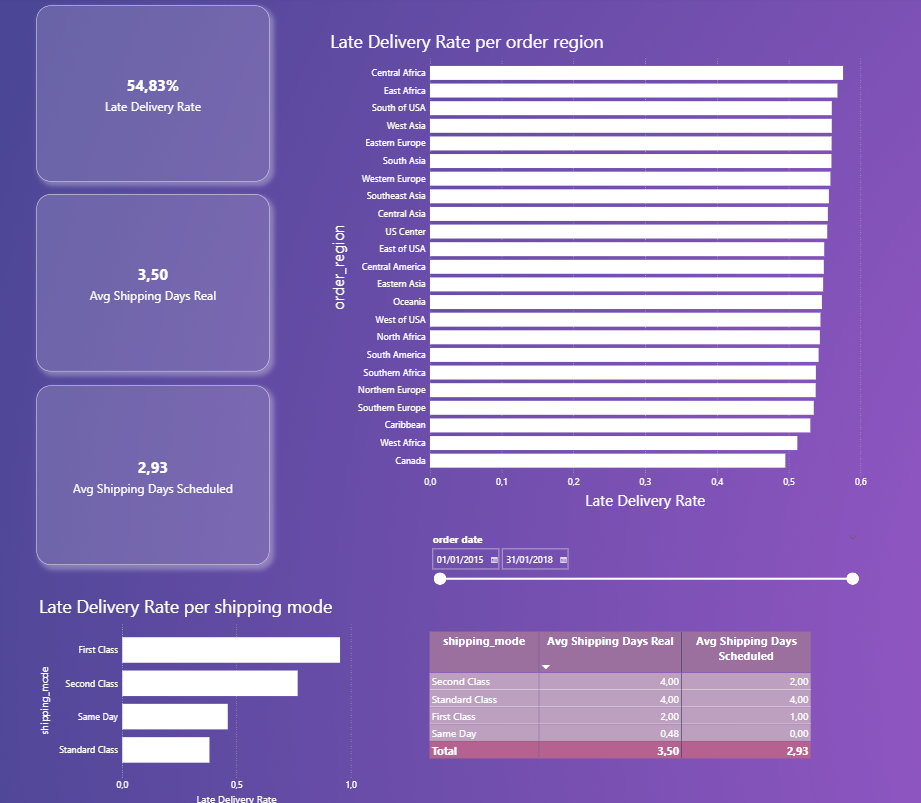

Layout of this report page (visuals, bound fields, positions):
{"tool":"powerbi","page":{"name":"Logistics & Delays","canvas":[2000,4000],"ordinal":1},"visuals":[{"type":"card","fields":{"Values":["public shipment.Late Delivery Rate"]},"box":[110,27.5,490,370],"z":0},{"type":"card","fields":{"Values":["public shipment.Avg Shipping Days Scheduled"]},"box":[110,825,490,377.5],"z":1000},{"type":"card","fields":{"Values":["public shipment.Avg Shipping Days Real"]},"box":[110,422.5,490,372.5],"z":2000},{"type":"clusteredBarChart","title":"Late Delivery Rate per shipping mode","fields":{"Category":["public shipment.shipping_mode"],"Y":["public shipment.Late Delivery Rate"]},"box":[110,1265,680,450],"z":3000},{"type":"clusteredBarChart","title":"Late Delivery Rate per order region","fields":{"Category":["public order_table.order_region"],"Y":["public shipment.Late Delivery Rate"]},"box":[723.3,76.7,1140,1016.7],"z":4000},{"type":"tableEx","fields":{"Values":["public shipment.shipping_mode","public shipment.Avg Shipping Days Real","public shipment.Avg Shipping Days Scheduled"]},"box":[931.7,1340,846.7,300],"z":5000},{"type":"slicer","fields":{"Values":["public order_table.order_date_typed"]},"box":[931.7,1128.3,918.3,150],"z":6000}]}

Visuals, with their boxes on the page's 2000x4000 design canvas (x1, y1, x2, y2). These are canvas units, not pixel positions in the 921x803 screenshot, which may show the page scaled, cropped or inside an application window:
card - public shipment.Late Delivery Rate: {"left": 110, "top": 28, "right": 600, "bottom": 398}
card - public shipment.Avg Shipping Days Scheduled: {"left": 110, "top": 825, "right": 600, "bottom": 1202}
card - public shipment.Avg Shipping Days Real: {"left": 110, "top": 422, "right": 600, "bottom": 795}
"Late Delivery Rate per shipping mode" clusteredBarChart: {"left": 110, "top": 1265, "right": 790, "bottom": 1715}
"Late Delivery Rate per order region" clusteredBarChart: {"left": 723, "top": 77, "right": 1863, "bottom": 1093}
tableEx - public shipment.shipping_mode x public shipment.Avg Shipping Days Real: {"left": 932, "top": 1340, "right": 1778, "bottom": 1640}
slicer - public order_table.order_date_typed: {"left": 932, "top": 1128, "right": 1850, "bottom": 1278}
